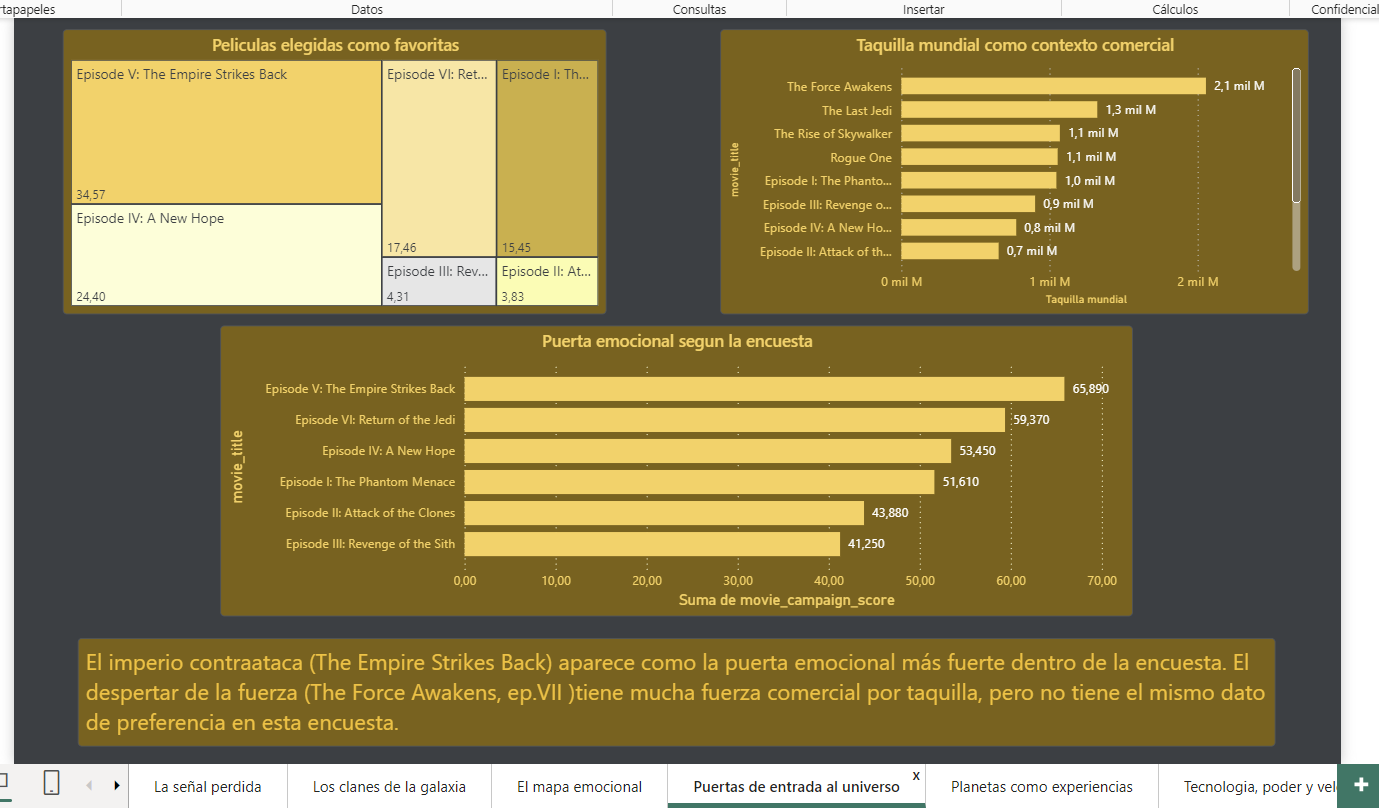

The page's visual inventory and layout, read from the dashboard file:
{"tool":"powerbi","page":{"name":"Puertas de entrada al universo","canvas":[1280,720],"ordinal":3},"visuals":[{"type":"barChart","title":"Puerta emocional segun la encuesta","fields":{"Category":["movie_opportunities (2).movie_title"],"Y":["Sum(movie_opportunities (2).movie_campaign_score)"]},"box":[199.1,296.8,880.7,281.1],"z":0},{"type":"treemap","title":"Peliculas elegidas como favoritas","fields":{"Group":["movie_opportunities (2).movie_title"],"Values":["Avg(movie_opportunities (2).first_place_pct)"]},"box":[47.1,10.9,524.8,275.1],"z":1000},{"type":"clusteredBarChart","title":"Taquilla mundial como contexto comercial","fields":{"Category":["movie_commercial_audience_summa (2).movie_title"],"Y":["Sum(movie_commercial_audience_summa (2).worldwide_box_office_usd)"]},"box":[681.6,10.9,568.2,275.1],"z":2000},{"type":"textbox","box":[61.5,598.4,1155.8,105],"z":3000}]}

Visuals, with their boxes on the page's 1280x720 design canvas (x1, y1, x2, y2). These are canvas units, not pixel positions in the 1379x808 screenshot, which may show the page scaled, cropped or inside an application window:
"Puerta emocional segun la encuesta" barChart: {"left": 199, "top": 297, "right": 1080, "bottom": 578}
"Peliculas elegidas como favoritas" treemap: {"left": 47, "top": 11, "right": 572, "bottom": 286}
"Taquilla mundial como contexto comercial" clusteredBarChart: {"left": 682, "top": 11, "right": 1250, "bottom": 286}
textbox: {"left": 62, "top": 598, "right": 1217, "bottom": 703}
